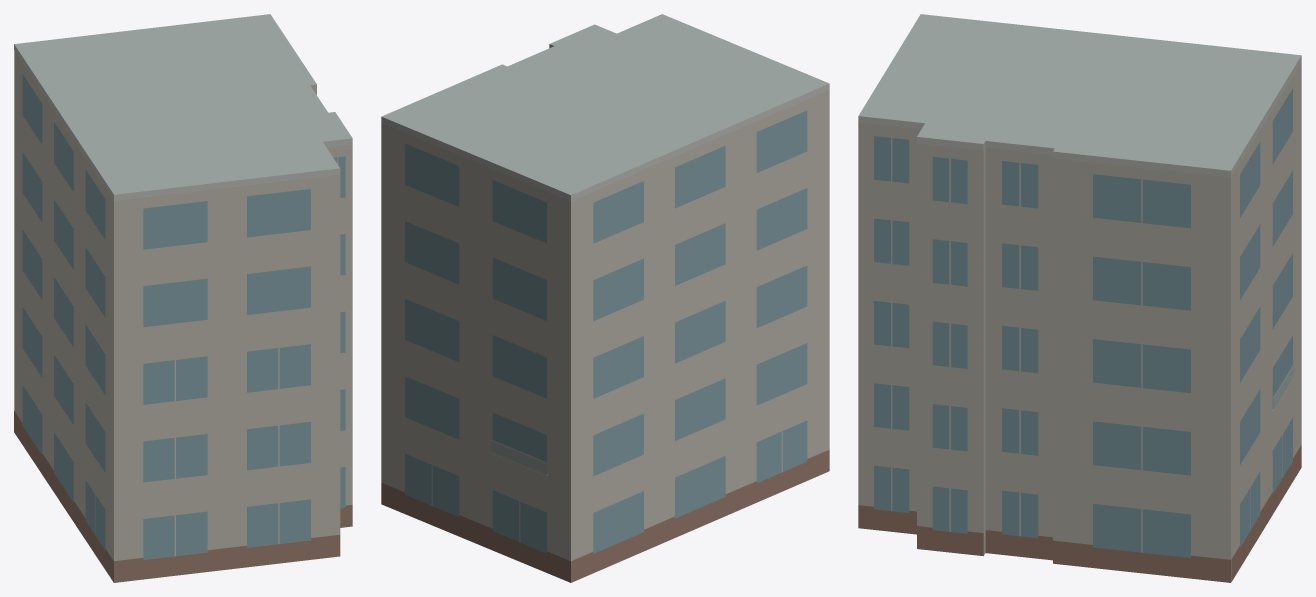
File: survey-upis-32620607.glb
3 renders of one model, left to right at view 1: azimuth 30°, elevation 25°; view 2: azimuth 150°, elevation 25°; view 3: azimuth 270°, elevation 25°, orthographic. The views are drawn at different scales.
Parts seen in each view (by area): view 1: survey-upis-32620607.tmp; view 2: survey-upis-32620607.tmp; view 3: survey-upis-32620607.tmp.
Boxes of the visible parts, x1=… form: survey-upis-32620607.tmp: x1=14, y1=14, x2=352, y2=582; survey-upis-32620607.tmp: x1=381, y1=14, x2=829, y2=582; survey-upis-32620607.tmp: x1=858, y1=14, x2=1301, y2=582.
Bounding box in the file's own units: 12.45 × 15.25 × 14.88.
